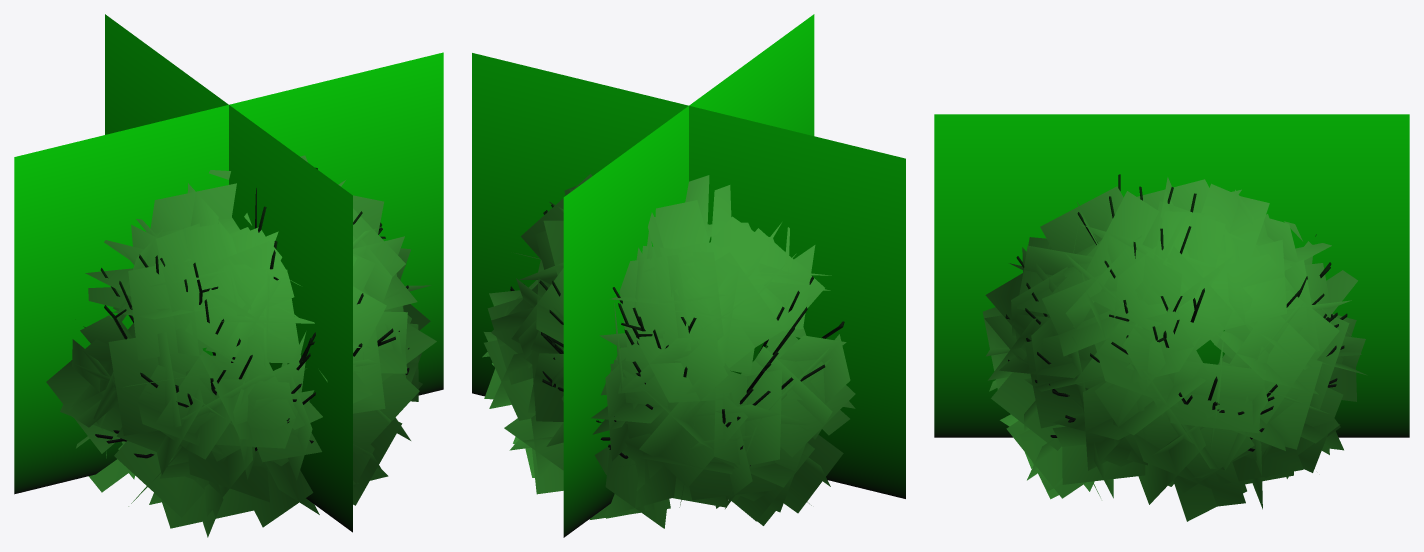
The model's file is IL3DN_Shrub_Round_01.FBX.
3 views of the same model, side by side, from view 1: azimuth 30°, elevation 25°; view 2: azimuth 150°, elevation 25°; view 3: azimuth 270°, elevation 25° (orthographic). The views are drawn at different scales.
Visible parts, largest first — view 1: IL3DN_Shrub_Round_01_Card, IL3DN_Shrub_Round_01_Leaves_LOD0, IL3DN_Shrub_Round_01_Branch_LOD0; view 2: IL3DN_Shrub_Round_01_Card, IL3DN_Shrub_Round_01_Leaves_LOD0, IL3DN_Shrub_Round_01_Branch_LOD0; view 3: IL3DN_Shrub_Round_01_Leaves_LOD0, IL3DN_Shrub_Round_01_Card, IL3DN_Shrub_Round_01_Branch_LOD0.
Part boxes in pixels (<box>): IL3DN_Shrub_Round_01_Card: <box>14,14,443,532</box>; IL3DN_Shrub_Round_01_Leaves_LOD0: <box>46,155,436,537</box>; IL3DN_Shrub_Round_01_Branch_LOD0: <box>83,167,409,458</box>; IL3DN_Shrub_Round_01_Card: <box>472,14,905,537</box>; IL3DN_Shrub_Round_01_Leaves_LOD0: <box>482,174,855,528</box>; IL3DN_Shrub_Round_01_Branch_LOD0: <box>510,204,844,465</box>; IL3DN_Shrub_Round_01_Leaves_LOD0: <box>982,177,1367,521</box>; IL3DN_Shrub_Round_01_Card: <box>934,114,1409,437</box>; IL3DN_Shrub_Round_01_Branch_LOD0: <box>1005,174,1347,451</box>.
Size of what is drawn, in the model's own units: 78.74 by 67.47 by 78.74.
